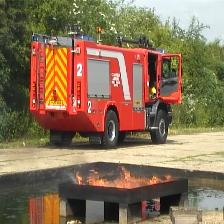fire: (78, 172, 176, 188)
